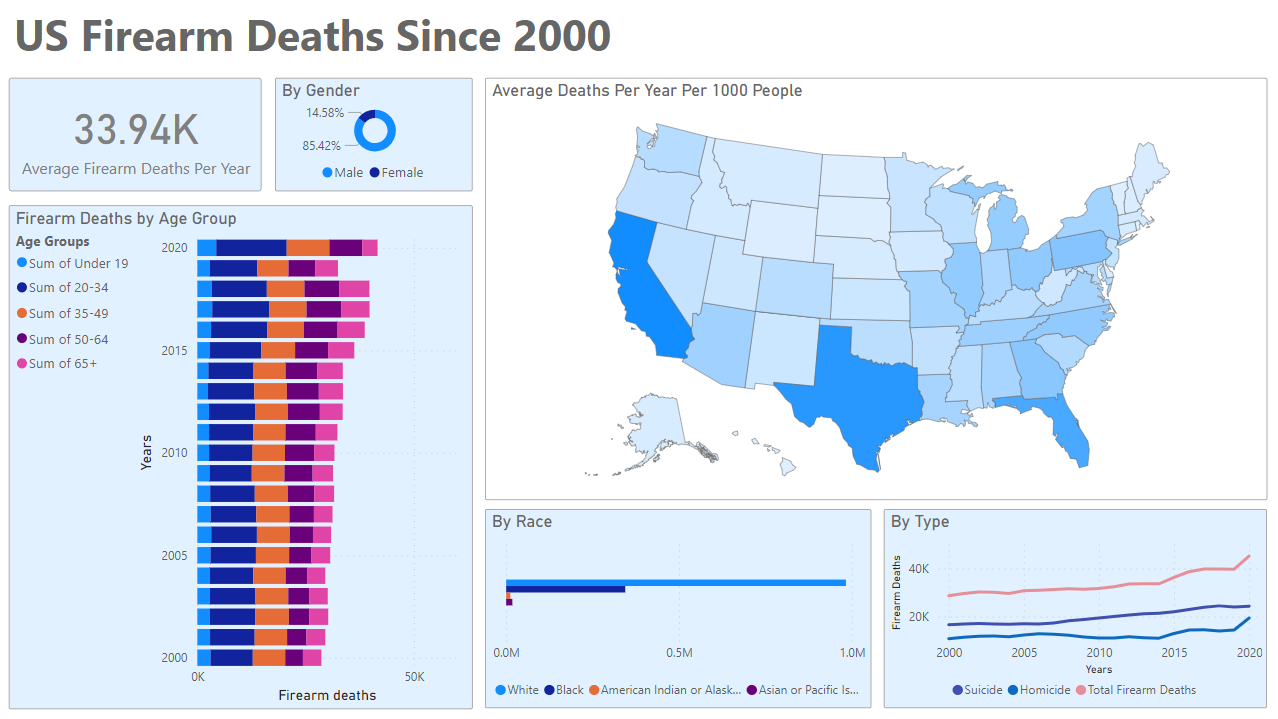

This screenshot's page, from the dashboard's own definition file:
{"tool":"powerbi","page":{"name":"Overview","canvas":[1280,720],"ordinal":0},"visuals":[{"type":"lineChart","title":"By Type","fields":{"Category":["firearm_deaths_usafacts (2).Years"],"Y":["Sum(firearm_deaths_usafacts (2).Suicide)","Sum(firearm_deaths_usafacts (2).Homicide)","Sum(firearm_deaths_usafacts (2).Firearm Deaths)"]},"box":[883.2,510.4,383.5,199.1],"z":0},{"type":"barChart","title":"Firearm Deaths by Age Group","fields":{"Category":["firearmPerCAPITA.Years"],"Y":["Sum(firearmPerCAPITA.        Under 19 (People))","Sum(firearmPerCAPITA.        20-34 (People))","Sum(firearmPerCAPITA.        35-49 (People))","Sum(firearmPerCAPITA.        50-64 (People))","Sum(firearmPerCAPITA.        65 + (People))"]},"box":[9.4,205.8,463.6,503.7],"z":1000},{"type":"textbox","box":[9.4,1.3,640,77.5],"z":2000},{"type":"card","fields":{"Values":["Avg(firearm_deaths_usafacts (2).Firearm deaths (People))"]},"box":[9.4,78.8,252.5,113.6],"z":3000},{"type":"shapeMap","title":"Average Deaths Per Year Per 1000 People","fields":{"Category":["firearm_deaths_countries.State"],"Value":["Sum(firearm_deaths_countries.AvgPer1000)"]},"box":[485,78.8,782.5,422.5],"z":4000},{"type":"donutChart","title":"By Gender","fields":{"Y":["Sum(firearmPerCAPITA.        Male (People))","Sum(firearmPerCAPITA.        Female (People))"]},"box":[275.2,78.8,197.7,113.6],"z":5000},{"type":"clusteredBarChart","title":"By Race","fields":{"Y":["Sum(firearm_deaths_usafacts (2).        White (People))","Sum(firearm_deaths_usafacts (2).        Black (People))","Sum(firearm_deaths_usafacts (2).        American Indian or Alaska Native (People))","Sum(firearm_deaths_usafacts (2).        Asian or Pacific Islander (People))"]},"box":[485,510.4,386.1,199.1],"z":6000}]}

Visuals, with their boxes in screenshot pixels (x1, y1, x2, y2), scaled from the page's 1280x720 canvas onto the 1278x719 screenshot:
"By Type" lineChart: Rect(882, 510, 1265, 709)
"Firearm Deaths by Age Group" barChart: Rect(9, 206, 472, 709)
textbox: Rect(9, 1, 648, 79)
card - Avg(firearm_deaths_usafacts (2).Firearm deaths (People)): Rect(9, 79, 261, 192)
"Average Deaths Per Year Per 1000 People" shapeMap: Rect(484, 79, 1266, 501)
"By Gender" donutChart: Rect(275, 79, 472, 192)
"By Race" clusteredBarChart: Rect(484, 510, 870, 709)
